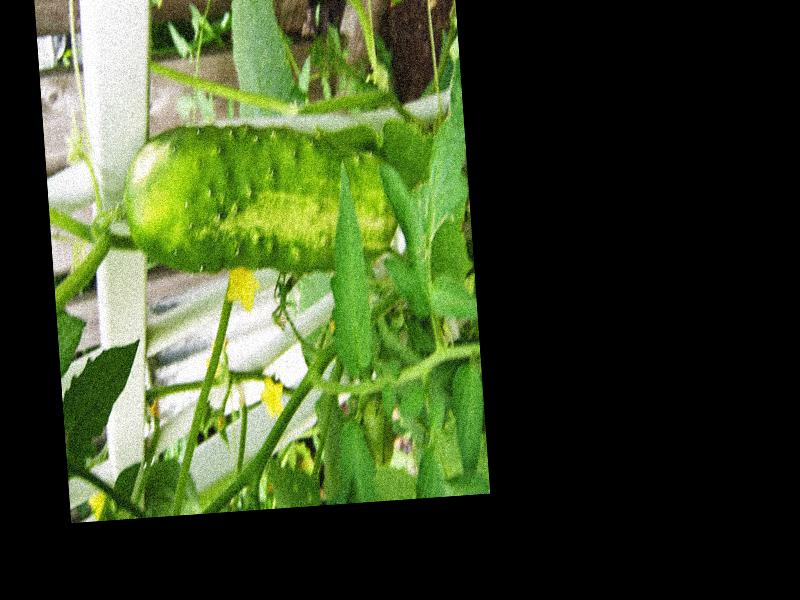Cucumber: (119, 114, 397, 278)
